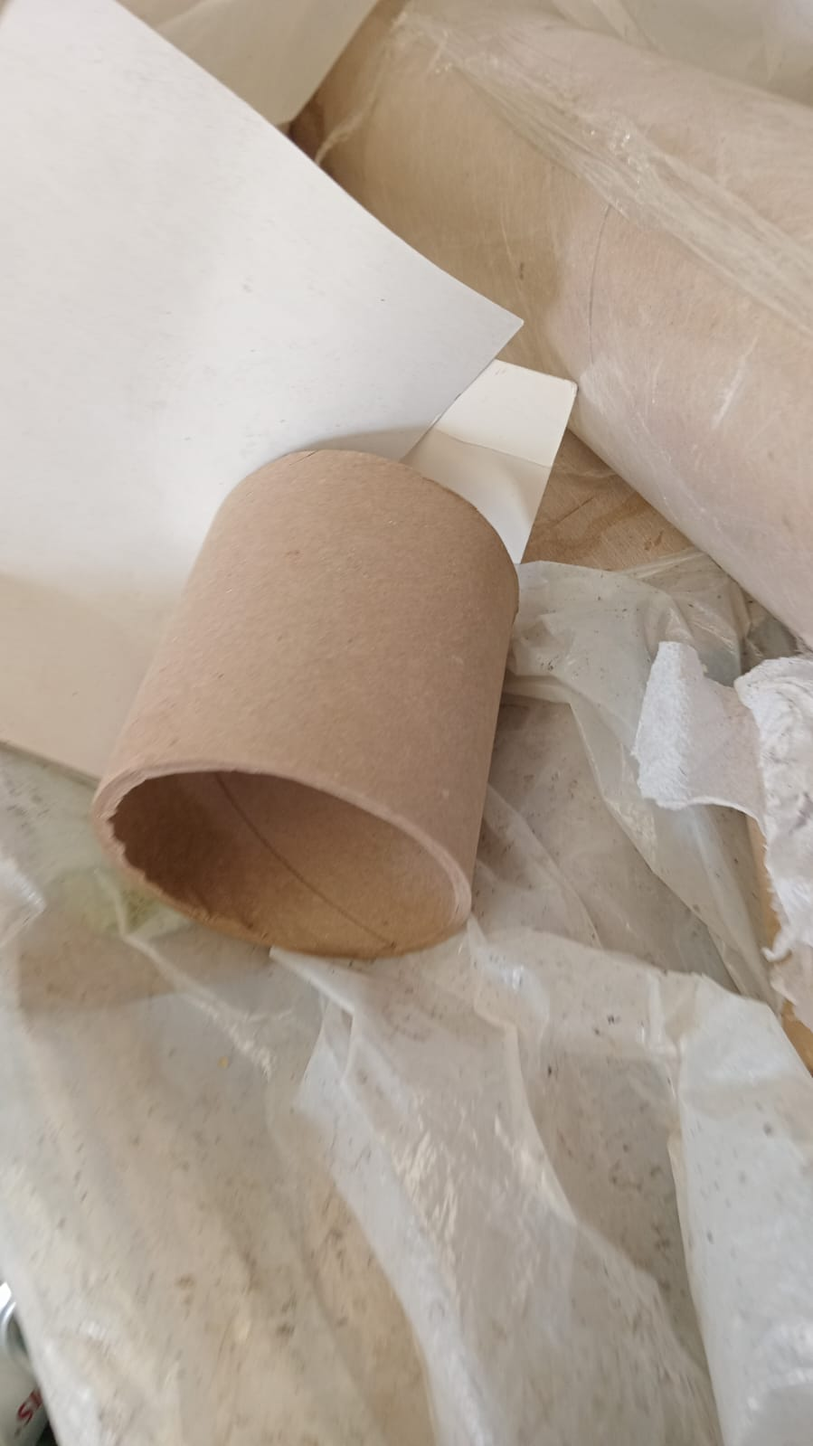Carton: (99, 450, 522, 958)
